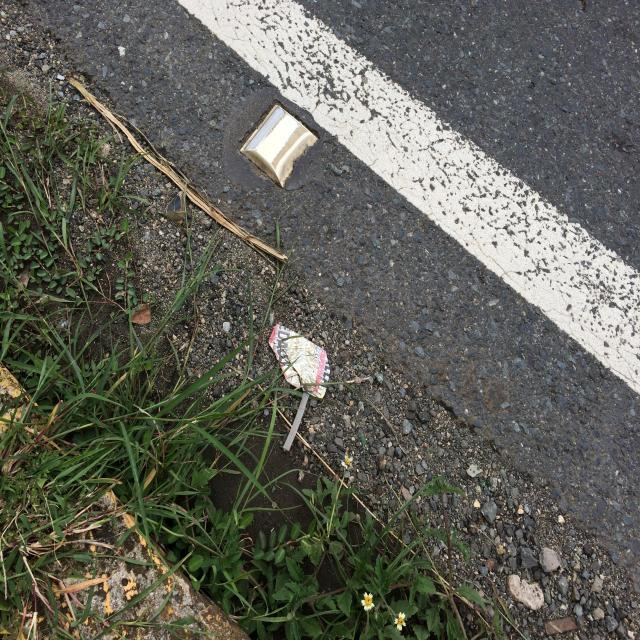litter: (264, 316, 336, 404)
